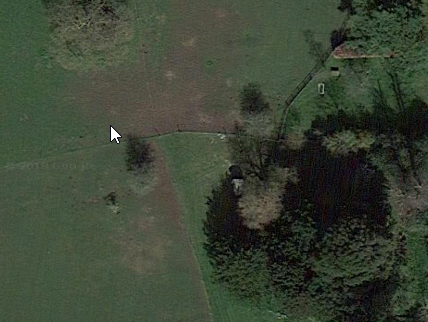tree: (44, 2, 136, 73), (235, 173, 288, 231), (234, 102, 280, 145), (116, 161, 164, 196)
